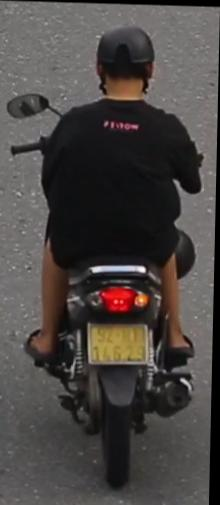LP: (86, 313, 154, 367)
helmet: (86, 15, 160, 117)
